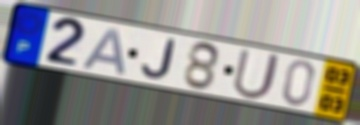0: (280, 59, 318, 109)
2: (40, 16, 91, 70)
8: (180, 41, 222, 92)
A: (79, 26, 128, 78)
J: (140, 37, 178, 81)
U: (230, 47, 284, 102)
